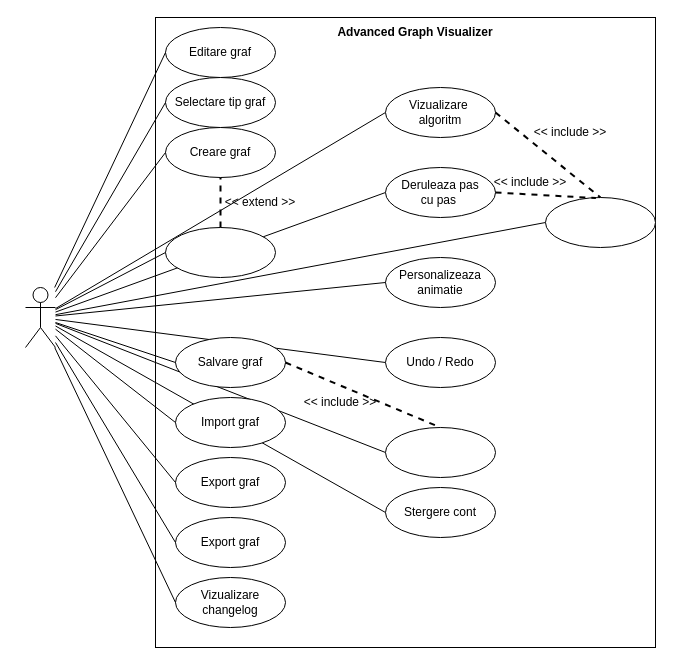
The diagram is 673 pixels wide and 665 high, and some of its shapes have lost their labels. Each missing label, with the centre of its shape:
"Creare cont" goes at point 440,452.
"Generare graf aleatoriu" goes at point 220,252.
"Selectare algoritm" goes at point 600,222.
"Utilizator" goes at point 40,317.
